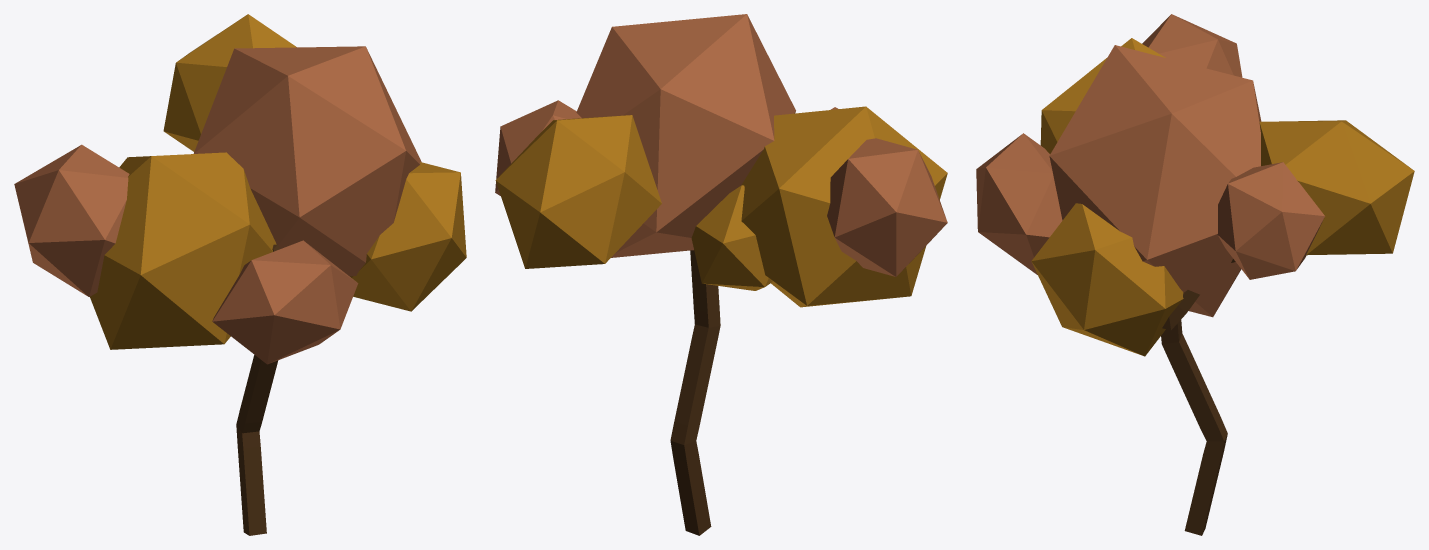
File: Orange tree A2.fbx
3 renders of one model, left to right at view 1: azimuth 30°, elevation 25°; view 2: azimuth 150°, elevation 25°; view 3: azimuth 270°, elevation 25°, orthographic.
Parts seen in each view (by area): view 1: Icosphere.007, Icosphere.006, Icosphere.002, Icosphere.003, Icosphere.001, Icosphere, Cube; view 2: Icosphere.007, Icosphere.006, Icosphere, Icosphere.002, Cube, Icosphere.004, Icosphere.005; view 3: Icosphere.007, Icosphere.001, Icosphere, Icosphere.005, Icosphere.003, Cube, Icosphere.002, Icosphere.006.
Part boxes in pixels (x1,y1,x2,y2): Icosphere.007: (193, 46, 421, 276); Icosphere.006: (90, 152, 276, 349); Icosphere.002: (14, 144, 129, 296); Icosphere.003: (212, 240, 358, 364); Icosphere.001: (350, 162, 466, 311); Icosphere: (163, 14, 296, 151); Cube: (236, 244, 280, 535); Icosphere.007: (576, 14, 795, 257); Icosphere.006: (741, 106, 947, 307); Icosphere: (495, 115, 661, 268); Icosphere.002: (827, 138, 947, 276); Cube: (670, 250, 720, 535); Icosphere.004: (691, 185, 772, 290); Icosphere.005: (495, 100, 581, 195); Icosphere.007: (1049, 45, 1261, 317); Icosphere.001: (1031, 203, 1183, 356); Icosphere: (1259, 120, 1414, 255); Icosphere.005: (1217, 162, 1324, 279); Icosphere.003: (976, 133, 1062, 274); Cube: (1161, 259, 1235, 535); Icosphere.002: (1142, 14, 1242, 77); Icosphere.006: (1040, 38, 1165, 153).
Bounding box in the file's own units: 394 × 468 × 386.
